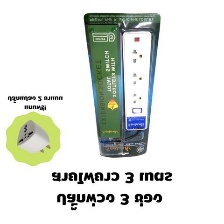book: (81, 10, 162, 161)
three_eye_plug: (119, 26, 156, 133), (11, 118, 54, 155)
